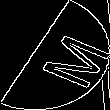M_NW: (12, 23, 98, 87)
